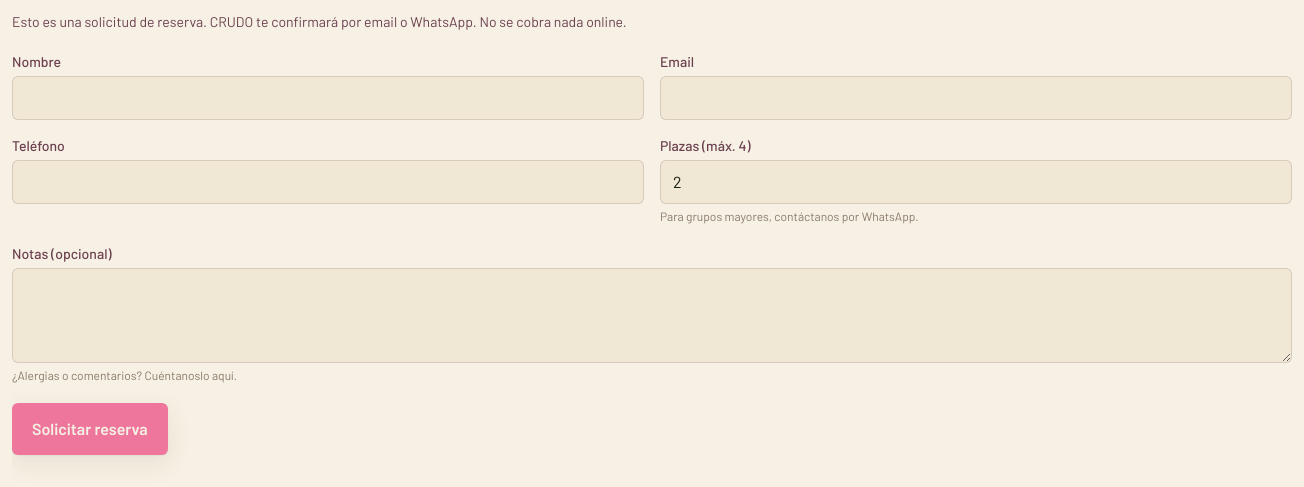
Scenario: ReservationForm › rejects party_size > 4 with WhatsApp suggestion
Step 1. Type "Ana" into the field labelled "Nombre" → (328, 98), box 12,76 -> 644,120
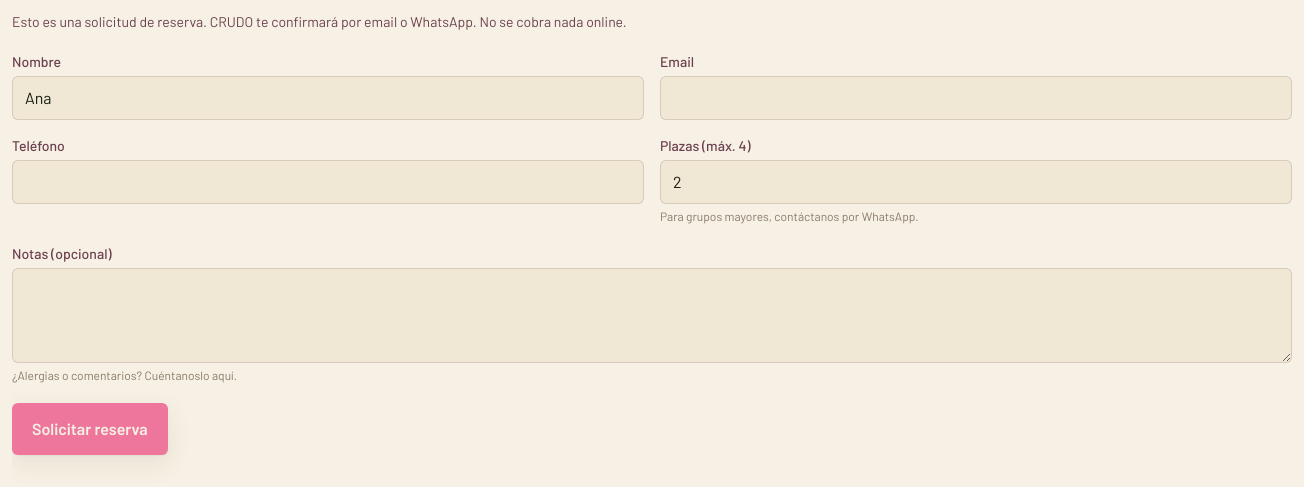
Step 2. Type "ana@example.com" into the field labelled "Email" → (976, 98), box 660,76 -> 1292,120
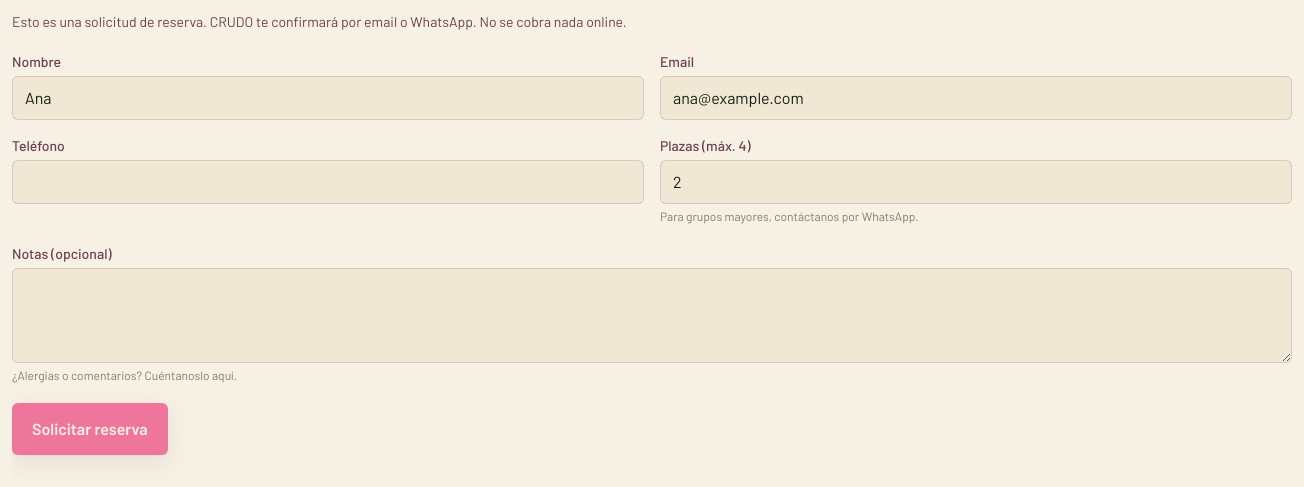
Step 3. Type "+34600111222" into the field labelled "Teléfono" → (328, 182), box 12,160 -> 644,204
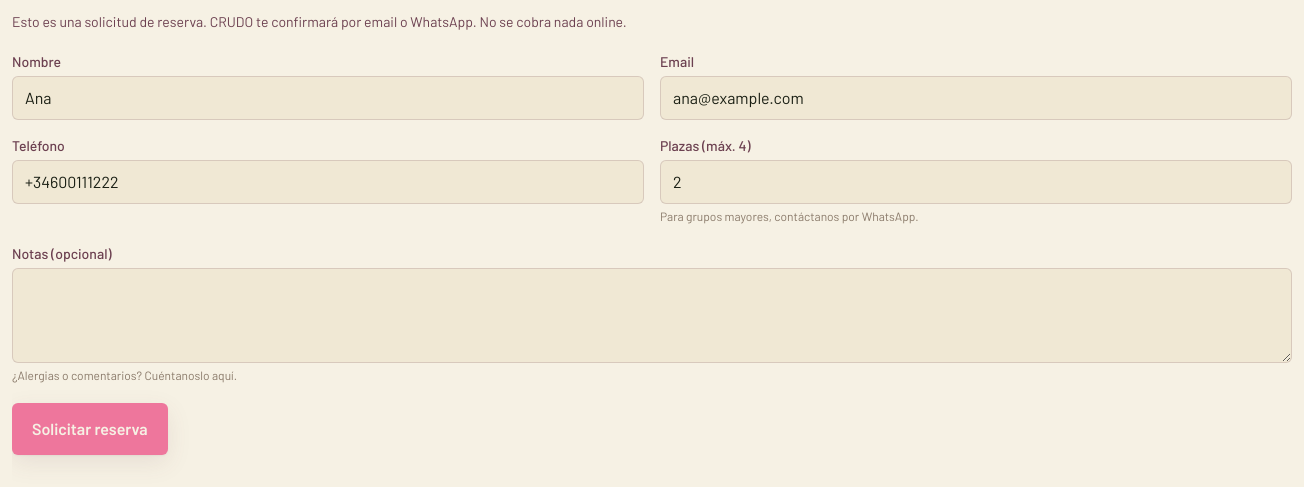
Step 4. Replace the text in the number field labelled "Plazas (máx. 4)" with "5" → (976, 182), box 660,160 -> 1292,204
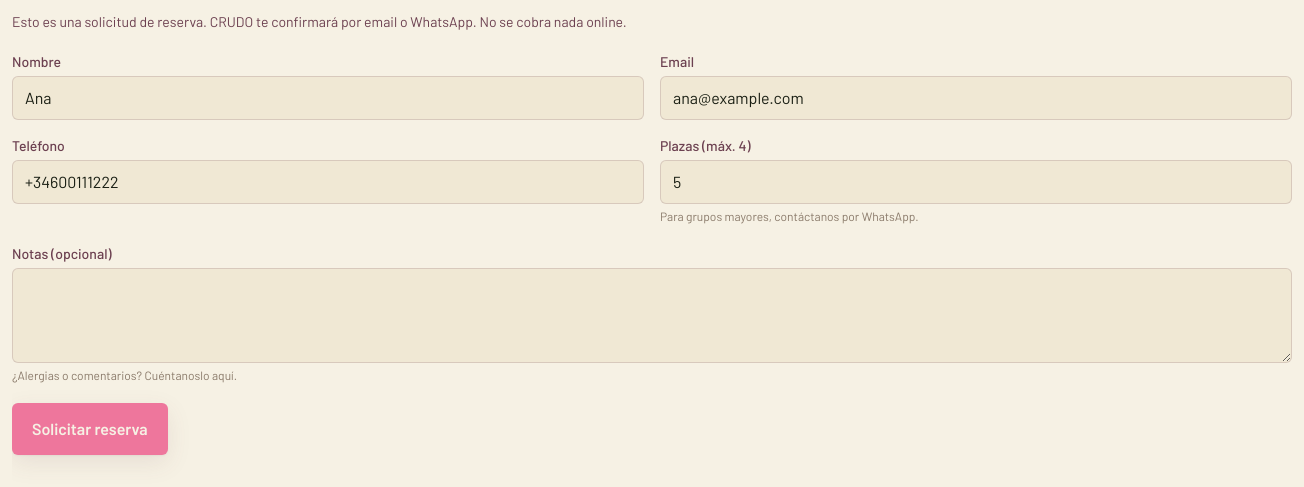
Step 5. Click the button "Solicitar reserva" → click(90, 429), box 12,403 -> 168,455
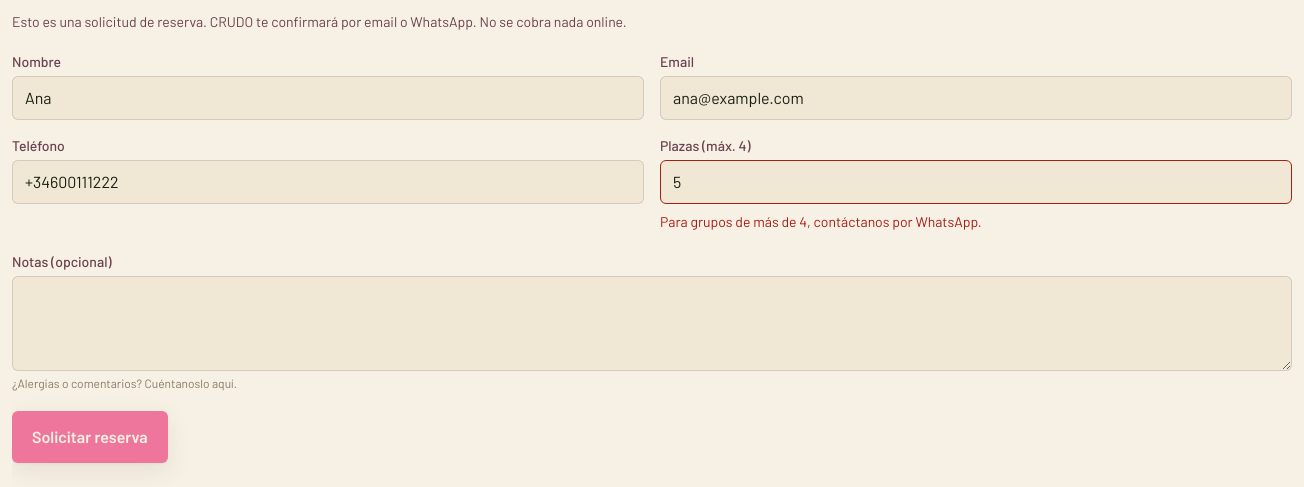
Result: the text "Para grupos de más de 4, contáctanos por WhatsApp." is shown at 660,213 -> 982,230
